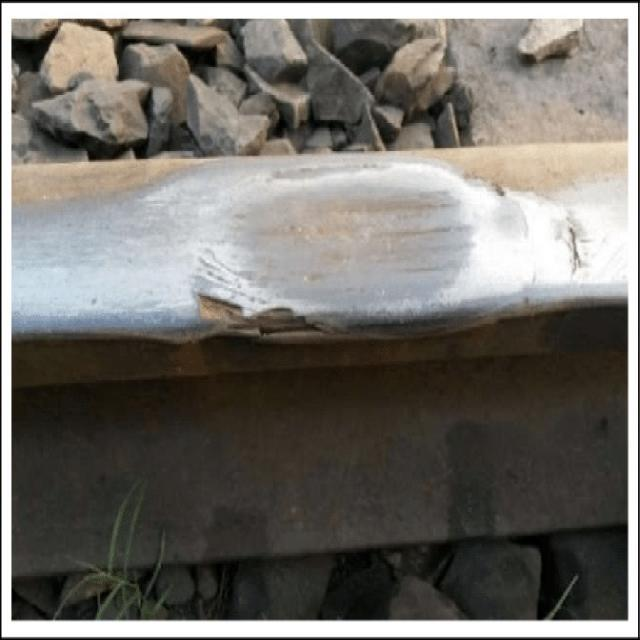broken_rail_medium: (191, 283, 327, 345), (461, 163, 509, 204), (566, 220, 588, 287)
head_checks_high: (149, 159, 543, 343)
